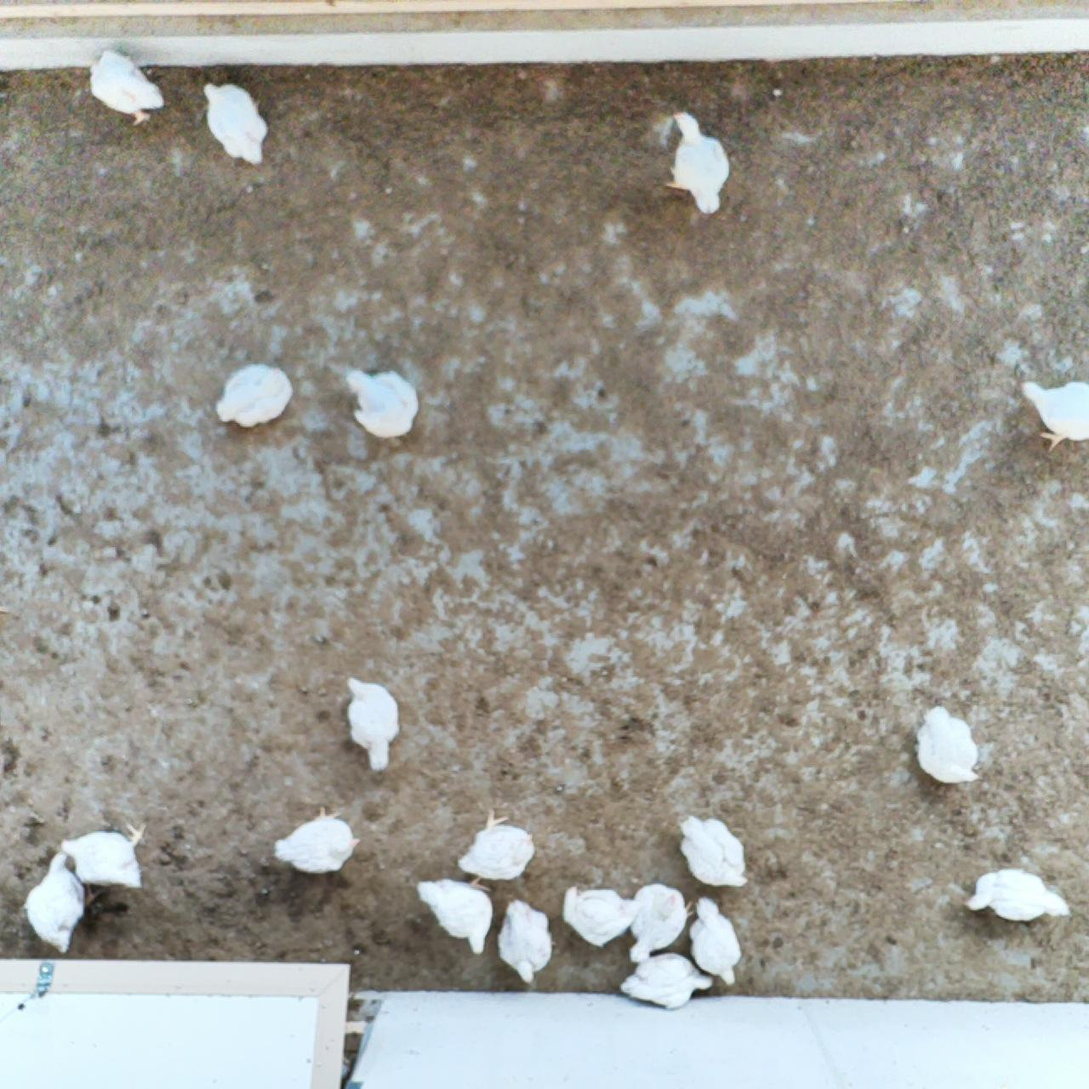chicken: (656, 105, 735, 219), (21, 847, 100, 956), (958, 865, 1074, 929), (409, 875, 495, 958), (59, 817, 152, 891), (87, 43, 168, 127), (340, 672, 404, 777), (455, 805, 540, 883), (200, 77, 272, 169), (272, 803, 361, 877), (342, 359, 422, 440), (1012, 373, 1089, 456), (214, 358, 296, 434), (912, 704, 986, 788), (617, 950, 715, 1013), (677, 811, 755, 889), (627, 882, 698, 967), (495, 896, 560, 985), (687, 895, 748, 988), (560, 883, 639, 948)
